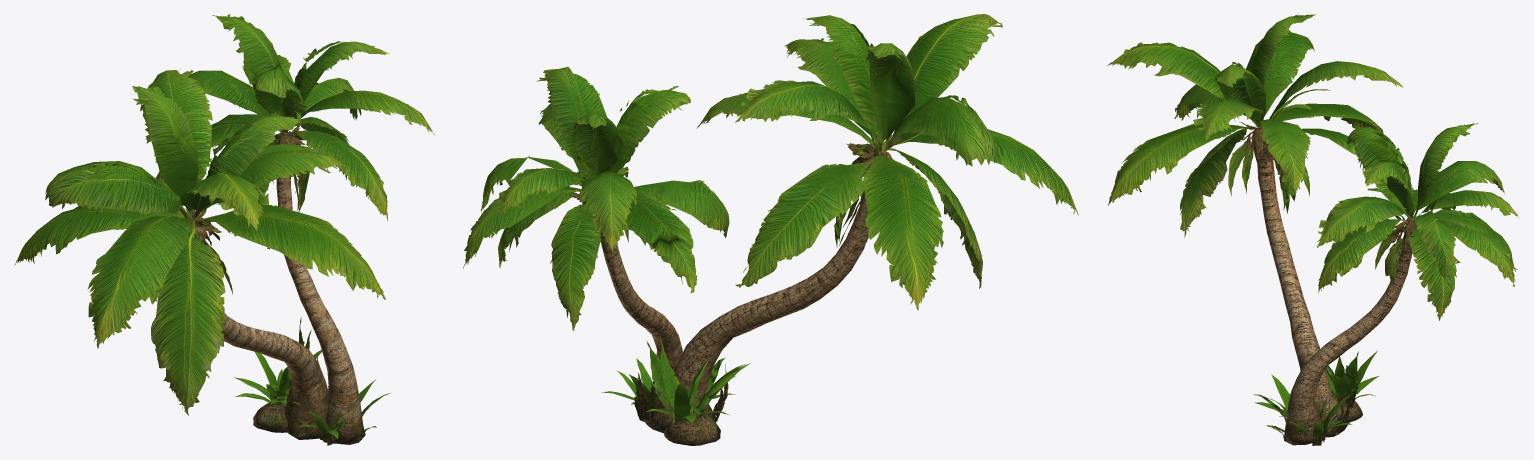
The model's file is coqueiro_a.glb.
3 renders of one model, left to right at view 1: azimuth 30°, elevation 25°; view 2: azimuth 150°, elevation 25°; view 3: azimuth 270°, elevation 25°, orthographic. The views are drawn at different scales.
Visible parts, largest first — view 1: Model_0; view 2: Model_0; view 3: Model_0.
Part boxes in pixels (left/top/right/bottom): Model_0: left=14, top=14, right=434, bottom=445; Model_0: left=463, top=14, right=1078, bottom=445; Model_0: left=1107, top=14, right=1519, bottom=445.
Size of the model in its own units: 1 by 0.91 by 1.
Materials: 1 (1 with a texture image).
